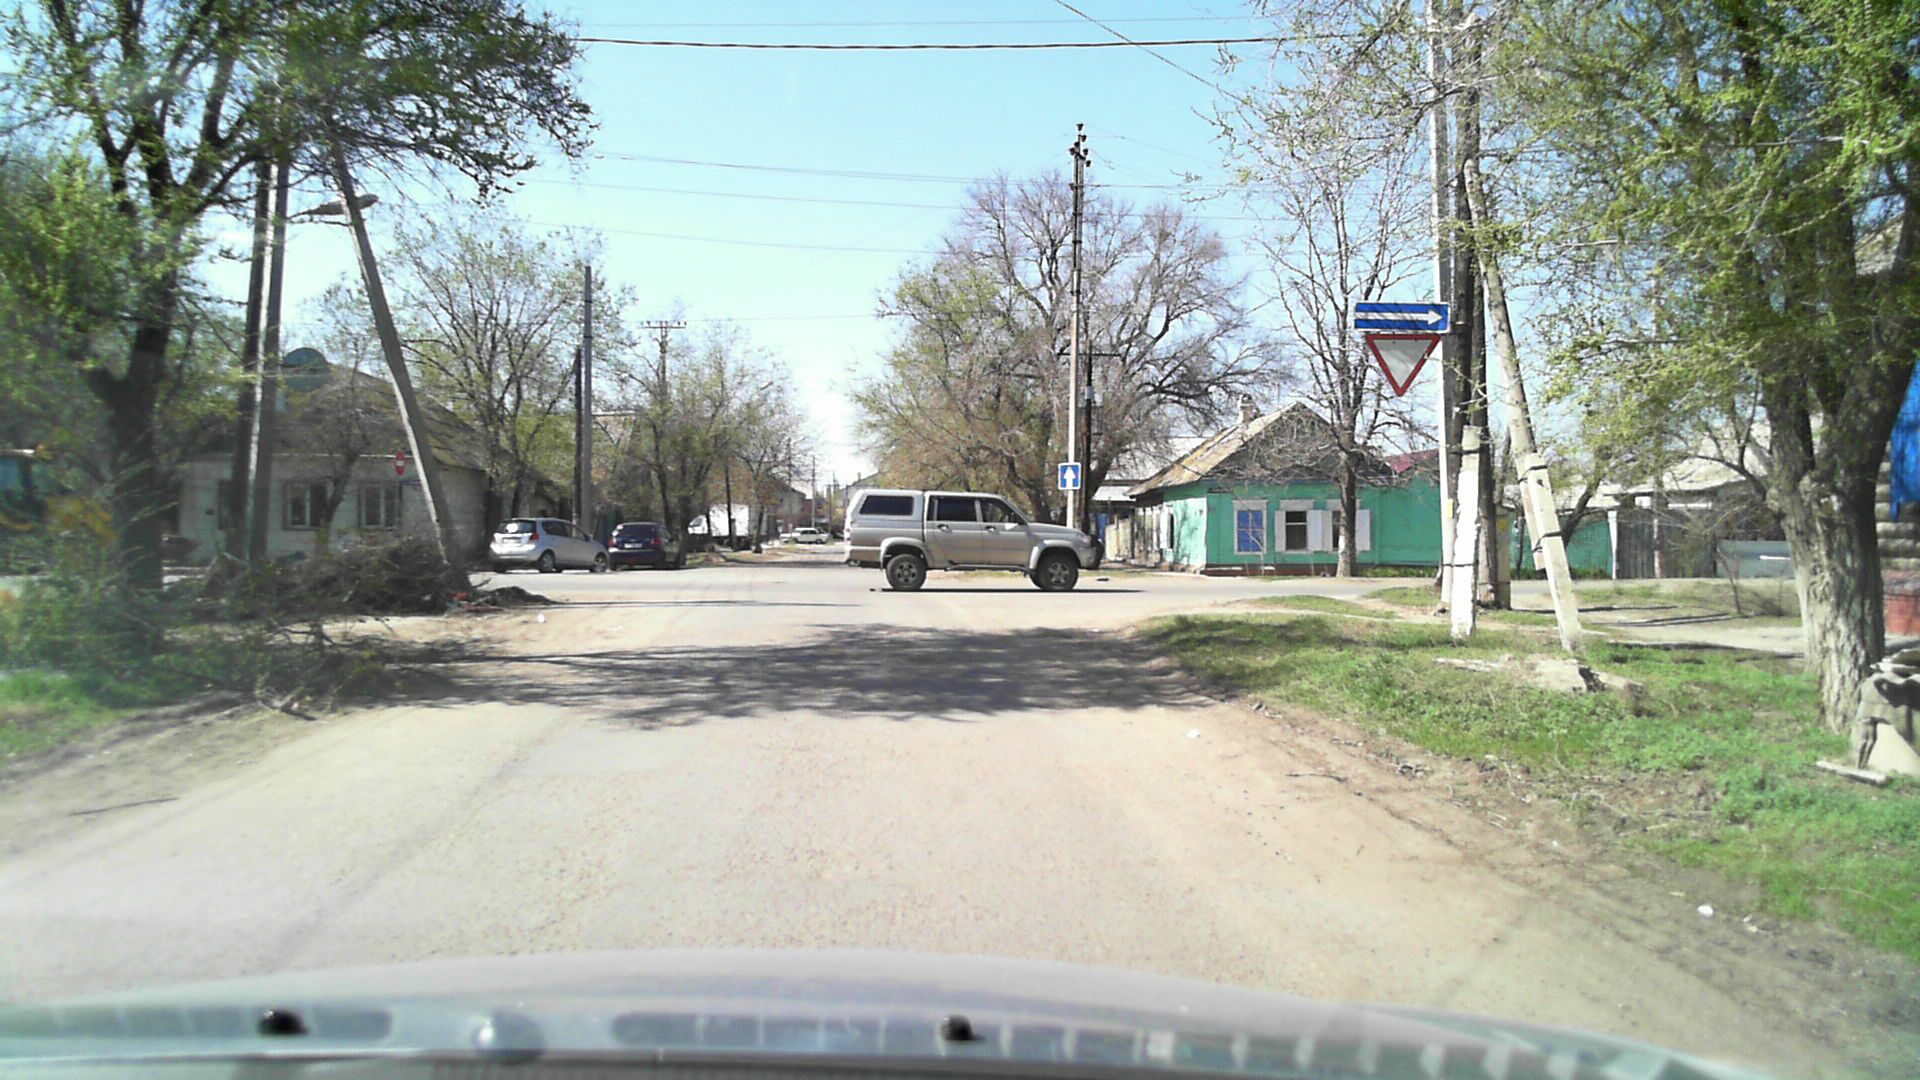One-Way Traffic: (1353, 301, 1451, 332)
